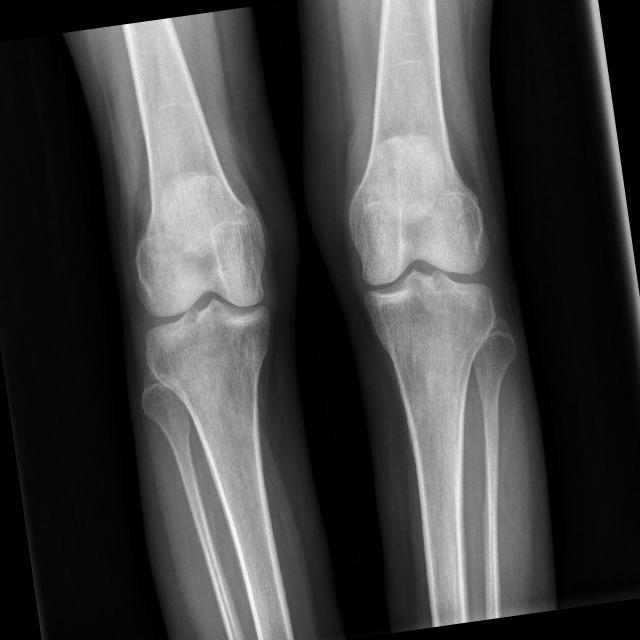Knee: (344, 202, 502, 352), (130, 232, 282, 382)
